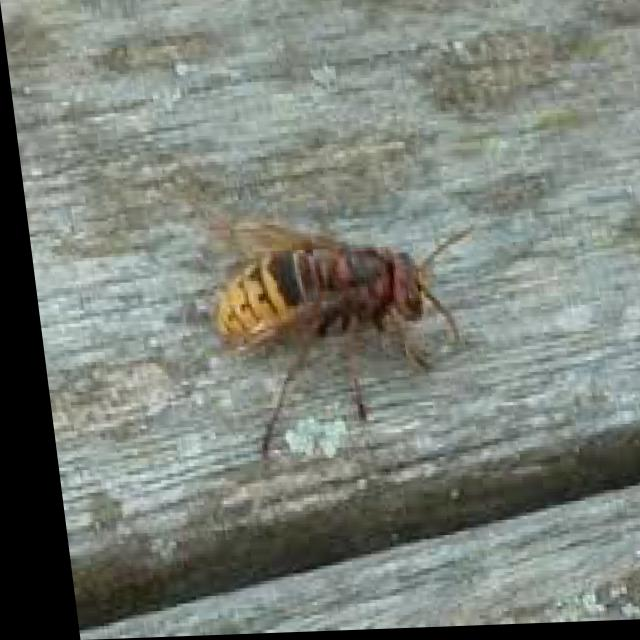Vespa Crabro: (147, 176, 503, 428)
